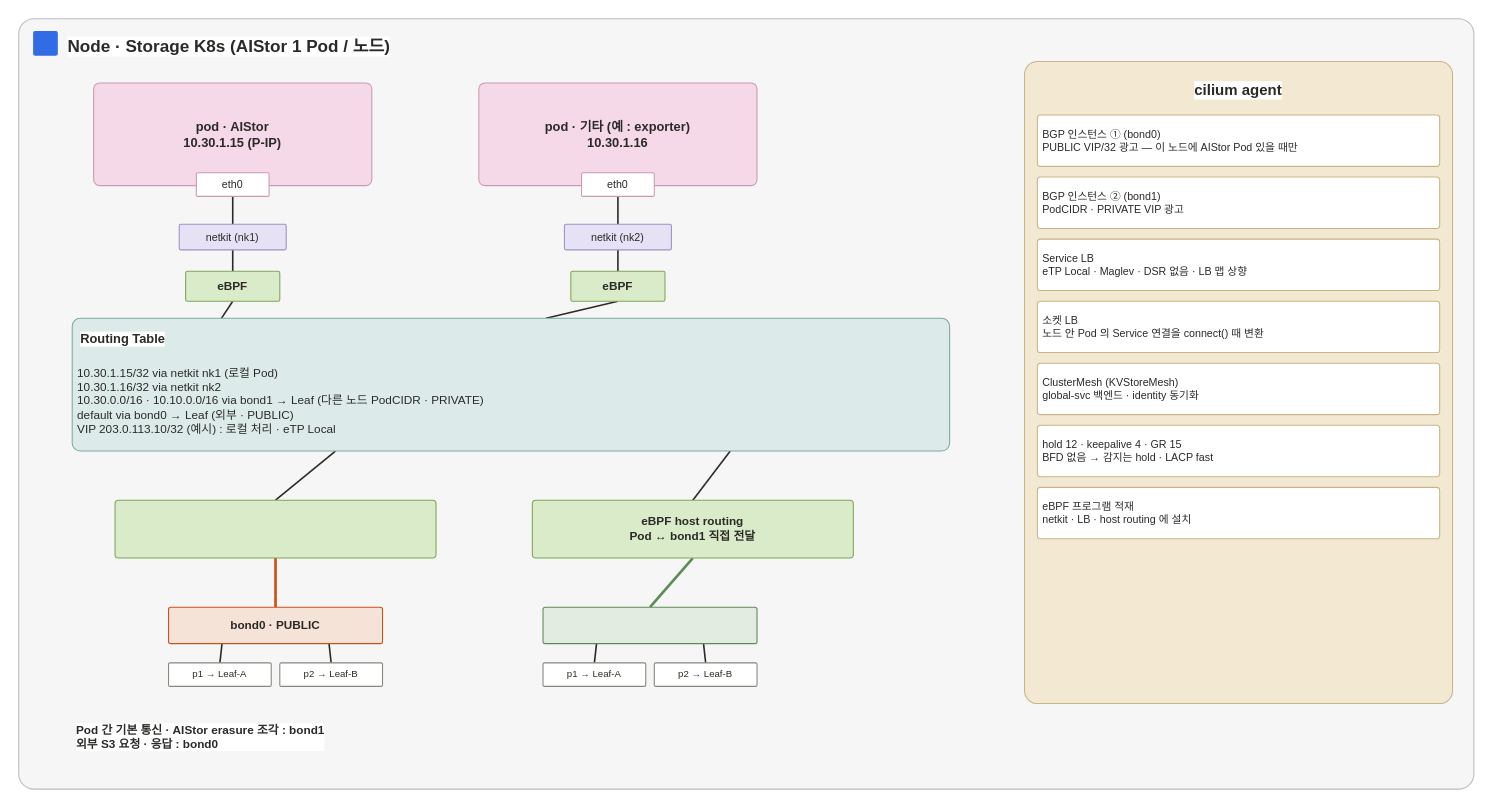
The diagram is 1493 pixels wide and 808 high, and some of its shapes have lost their labels. The centre of each missing label's shape, as x and y in pixels:
"bond1 · PRIVATE" goes at point 649,625.
"eBPF LB (XDP · tc) VIP → 로컬 AIStor Pod" goes at point 275,528.
